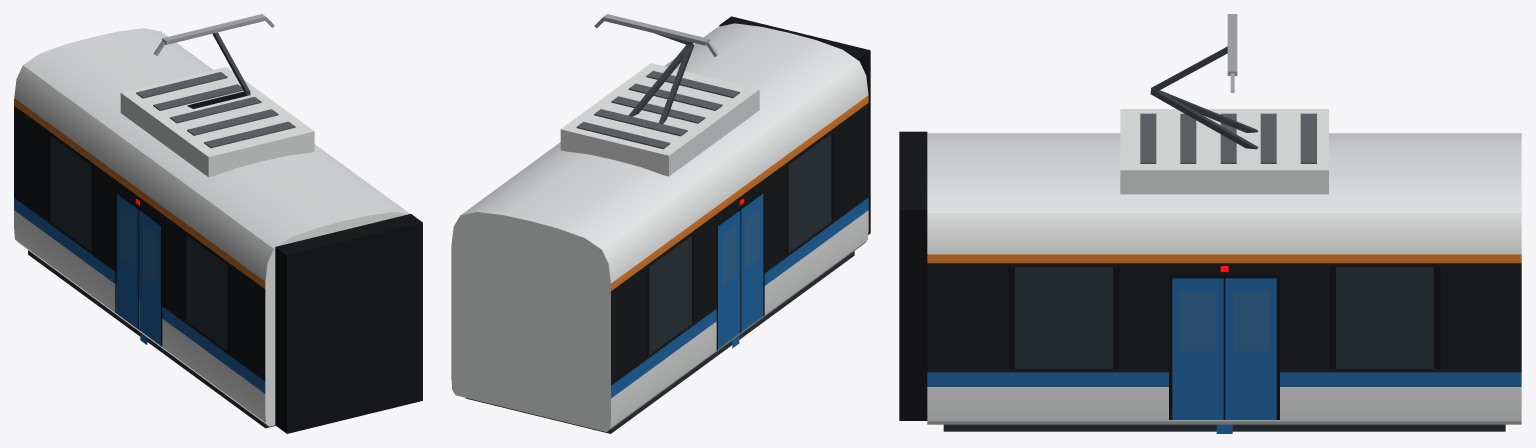
Rendered from danhai-lrt-middle.glb.
The picture shows the model from 3 angles, left to right: view 1: azimuth 30°, elevation 25°; view 2: azimuth 150°, elevation 25°; view 3: azimuth 270°, elevation 25°; orthographic projection. The views are drawn at different scales.
Visible parts, largest first — view 1: DanhaiLRT_Middle; view 2: DanhaiLRT_Middle; view 3: DanhaiLRT_Middle.
Part boxes in pixels (x1=…): DanhaiLRT_Middle: x1=14, y1=14, x2=422, y2=433; DanhaiLRT_Middle: x1=451, y1=14, x2=870, y2=433; DanhaiLRT_Middle: x1=899, y1=14, x2=1521, y2=433.
Size of the model in its own units: 2.73 by 4.91 by 7.75.
